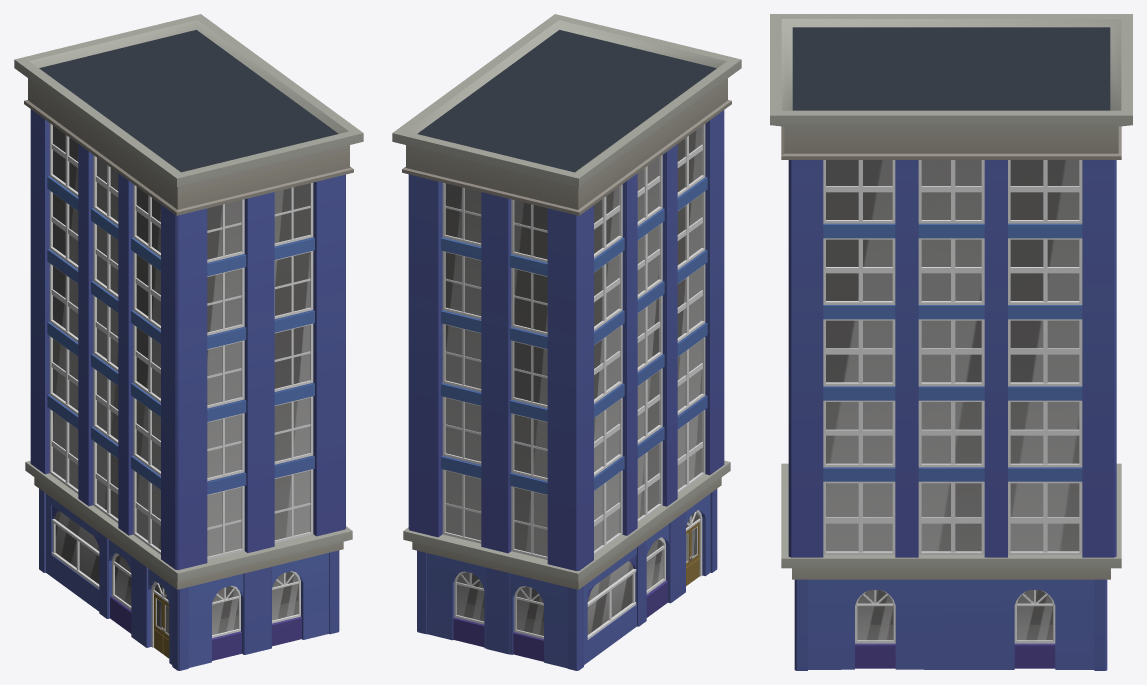
Rendered from Building_27_R.fbx.
3 views of the same model, side by side, from view 1: azimuth 30°, elevation 25°; view 2: azimuth 150°, elevation 25°; view 3: azimuth 270°, elevation 25° (orthographic). The views are drawn at different scales.
Parts seen in each view (by area): view 1: Building_27_R; view 2: Building_27_R; view 3: Building_27_R.
Boxes of the visible parts, left/top/right/bottom form: Building_27_R: left=14, top=14, right=363, bottom=670; Building_27_R: left=392, top=14, right=741, bottom=670; Building_27_R: left=770, top=14, right=1132, bottom=670.
Bounding box in the file's own units: 765 × 1974 × 1155.
